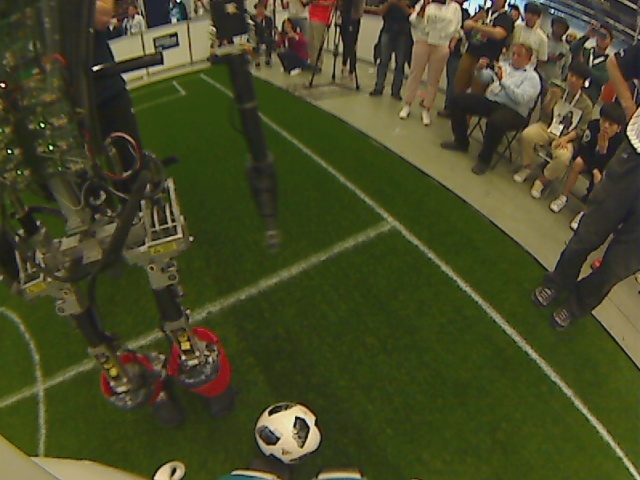ball: (252, 400, 326, 466)
robot: (1, 1, 284, 424)
